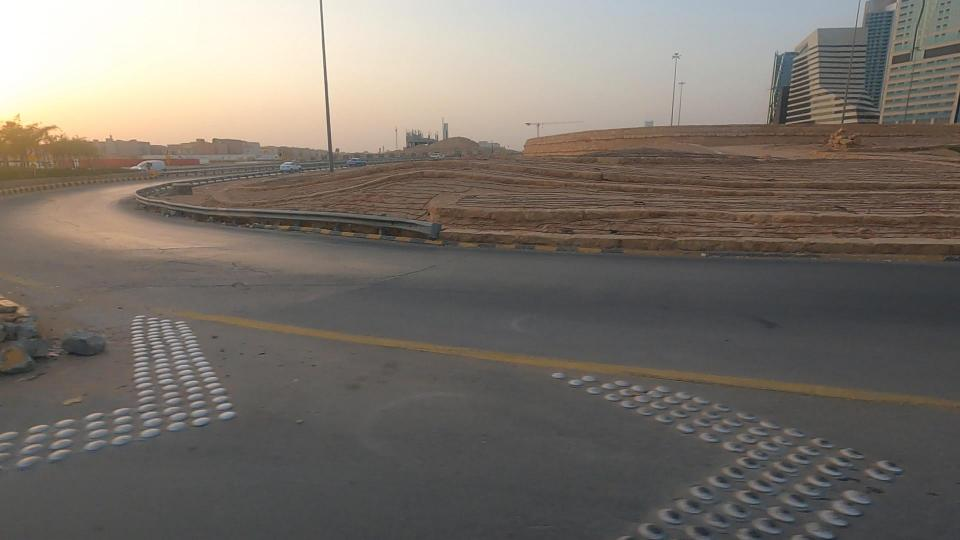CONSTRUCTION_ROAD: (447, 116, 845, 276), (249, 109, 581, 262), (677, 126, 960, 267)
